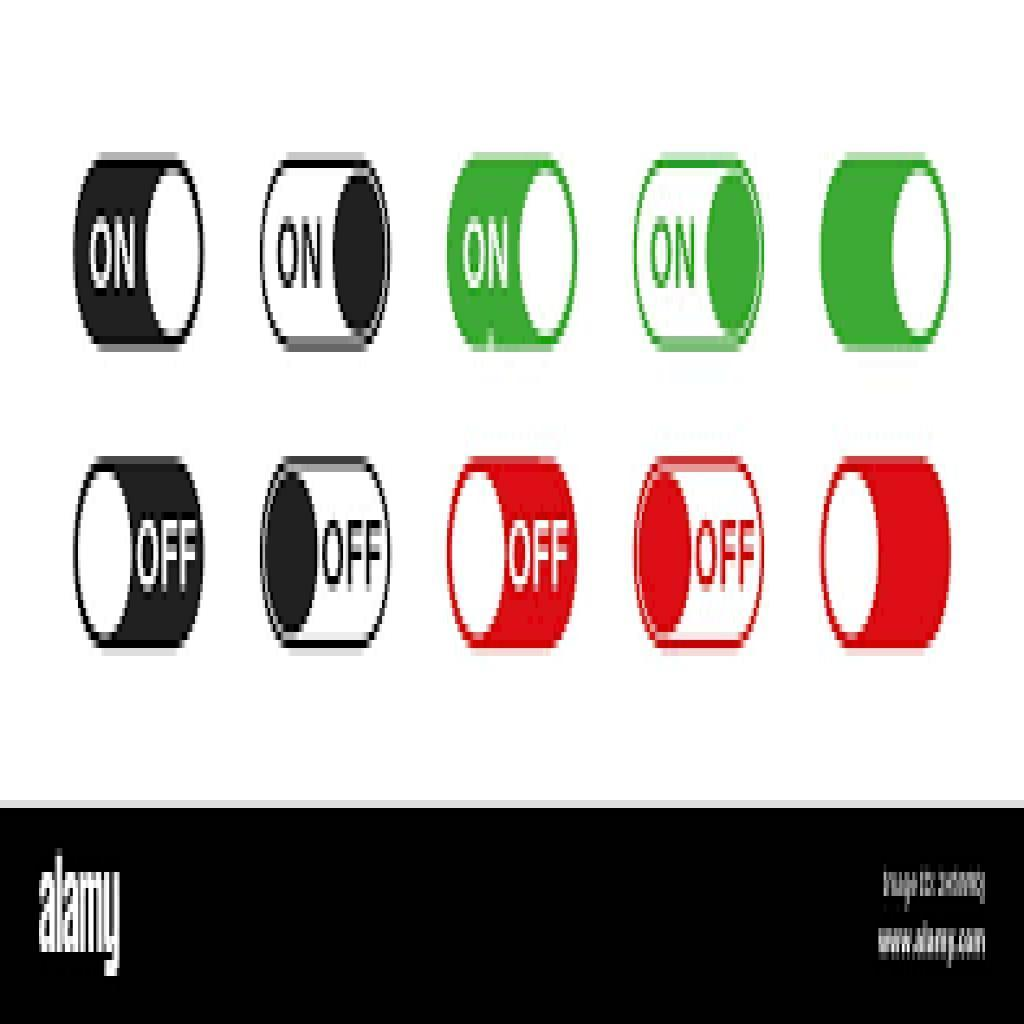switch: (249, 151, 400, 360), (67, 146, 211, 365), (440, 455, 593, 659), (817, 148, 962, 355), (629, 457, 772, 659), (438, 159, 584, 356), (256, 455, 398, 653), (624, 158, 767, 354), (814, 453, 954, 652), (70, 454, 209, 653)
